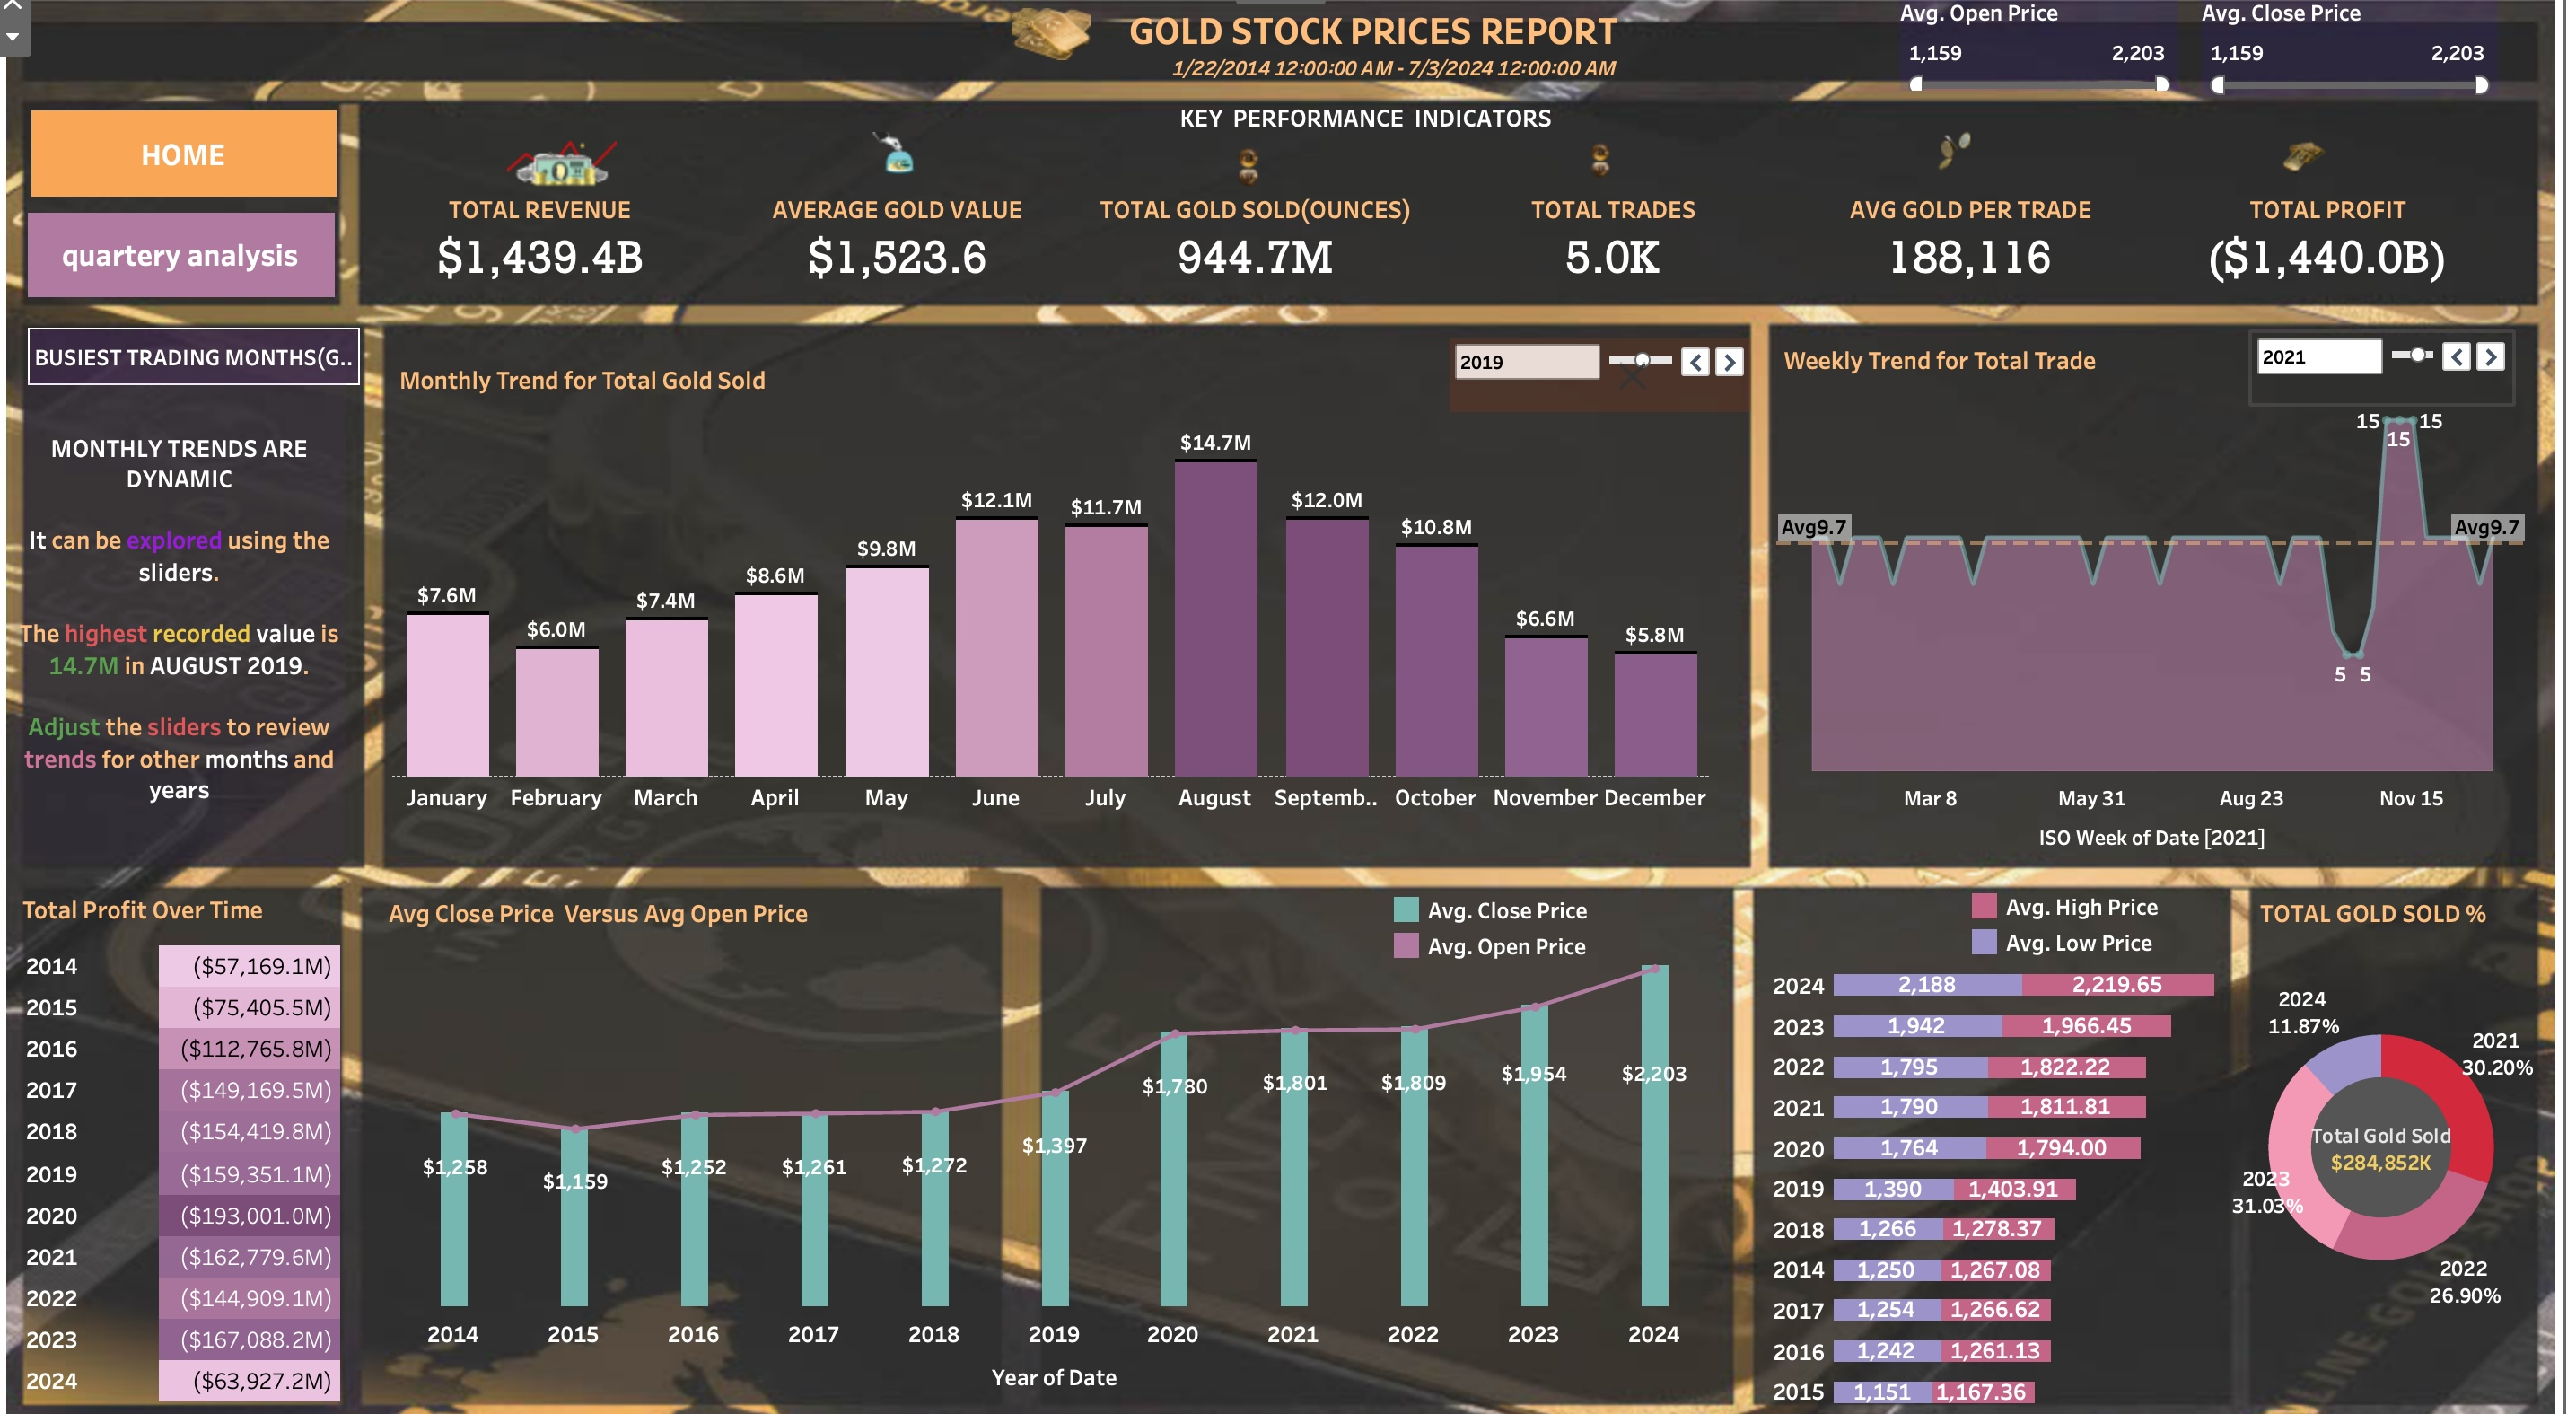

What the dashboard file says about the page in this screenshot:
{"tool":"tableau","page":{"name":"Dashboard 1","canvas":[1000,1000],"units":"permille","ordinal":0},"visuals":[{"type":"image","param":"/Users/dorcassarkodie/Downloads/[number redacted]-af11909f-2907-47eb-9f0e-64b26b46d7","box":[5.5,9.7,988.9,980.7]},{"type":"filter","title":"Avg Close Price Versus Avg Open Price","param":"[federated.0zgimoz0z6cs6b15ha84a0u8kb8z].[avg:Open_Price:qk]","box":[748.6,22.9,107.3,72.5]},{"type":"text","box":[328.9,25.4,465.4,37.4]},{"type":"filter","title":"Avg Close Price Versus Avg Open Price","param":"[federated.0zgimoz0z6cs6b15ha84a0u8kb8z].[avg:Close_Price:qk]","box":[860.1,25.4,124,66.4]},{"type":"image","param":"/Users/dorcassarkodie/Downloads/pexels-michael-steinberg-95604-366551-removebg-p","box":[430.1,31.4,30.5,42.3]},{"type":"worksheet","title":"Sheet 8","mark":"Automatic","box":[461.2,58,217.5,15.7]},{"type":"text","box":[147.5,91.8,824.8,33.8]},{"type":"dashboard-object","box":[18,94.2,117.7,58]},{"type":"image","param":"/Users/dorcassarkodie/Downloads/pexels-gabby-k-5849554.jpg","box":[211.2,101.1,20,18.9]},{"type":"image","param":"/Users/dorcassarkodie/Downloads/pexels-gabby-k-5849556-removebg-preview.png","box":[197.4,106.3,50.6,43.5]},{"type":"image","param":"/Users/dorcassarkodie/Downloads/pexels-michael-steinberg-95604-321452-removebg-p","box":[856.6,107.5,72,37.4]},{"type":"image","param":"/Users/dorcassarkodie/Downloads/pexels-pixabay-210600-removebg-preview.png","box":[690.4,108.7,62.3,37.4]},{"type":"image","param":"/Users/dorcassarkodie/Downloads/pexels-gabby-k-5849554-removebg-preview.png","box":[371.2,111.1,41.6,31.4]},{"type":"image","param":"/Users/dorcassarkodie/Downloads/pexels-jonathanborba-14891538-removebg-preview.p","box":[531.2,115.9,43.6,32.6]},{"type":"worksheet","title":"Sheet 1","mark":"Automatic","box":[145.4,129.2,827.6,93]},{"type":"dashboard-object","box":[16.6,163,118.4,56.8]},{"type":"text","box":[16.6,240.3,128.1,38.6]},{"type":"filter","title":"Weekly Trend for Total Trades","param":"[federated.0zgimoz0z6cs6b15ha84a0u8kb8z].[yr:Date:ok]","box":[874.6,244,100.4,47.1]},{"type":"worksheet","title":"Weekly Trend for Total Trades","mark":"Area","rows":["Calculation_1322932452084264966","Calculation_1322932452084264966"],"cols":["Date"],"box":[691.1,246.4,290.2,353.9]},{"type":"filter","title":"Monthly Trend for Total Gold Sold","param":"[federated.0zgimoz0z6cs6b15ha84a0u8kb8z].[yr:Date:ok]","box":[565.1,247.6,116.3,49.5]},{"type":"worksheet","title":"Monthly Trend for Total Gold Sold","mark":"Bar","rows":["Calculation_1322932452080660481","Calculation_1322932452080660481"],"cols":["Date"],"box":[157.2,259.7,509,344.2]},{"type":"dashboard-object","box":[628.1,260,15,27.5]},{"type":"text","box":[11.1,275.4,128.1,326.1]},{"type":"worksheet","title":"Sheet 7","mark":"Square","rows":["Date"],"box":[11.8,615.9,125.4,346.6]},{"type":"text","box":[876,615.9,115.7,36.2]},{"type":"legend","title":"Sheet 6","param":"[federated.0zgimoz0z6cs6b15ha84a0u8kb8z].[:Measure Names]","box":[764.5,617.1,97,56.8]},{"type":"worksheet","title":"Avg Close Price Versus Avg Open Price","mark":"Automatic","rows":["Close_Price","Open_Price"],"cols":["Date"],"box":[153.1,618.4,519.4,346.6]},{"type":"worksheet","title":"Percentage of Gold Sold","mark":"Pie","rows":["Calculation_1322932452904931337","Calculation_1322932452904931337"],"box":[865,618.4,119.1,346.6]},{"type":"legend","title":"Avg Close Price Versus Avg Open Price","param":"[federated.0zgimoz0z6cs6b15ha84a0u8kb8z].[:Measure Names]","box":[541.5,619.6,88.6,54.4]},{"type":"worksheet","title":"Sheet 6","mark":"Bar","rows":["Date"],"box":[657.9,655.8,209.8,318.8]}]}

Visuals, with their boxes on the dashboard's canvas, which has no fixed pixel size, in thousandths of its width and height (x1, y1, x2, y2). These are canvas units, not pixel positions in the 2576x1414 screenshot, which may show the page scaled, cropped or inside an application window:
image: l=6, t=10, r=994, b=990
"Avg Close Price Versus Avg Open Price" filter: l=749, t=23, r=856, b=95
text: l=329, t=25, r=794, b=63
"Avg Close Price Versus Avg Open Price" filter: l=860, t=25, r=984, b=92
image: l=430, t=31, r=461, b=74
"Sheet 8" worksheet: l=461, t=58, r=679, b=74
text: l=148, t=92, r=972, b=126
dashboard-object: l=18, t=94, r=136, b=152
image: l=211, t=101, r=231, b=120
image: l=197, t=106, r=248, b=150
image: l=857, t=108, r=929, b=145
image: l=690, t=109, r=753, b=146
image: l=371, t=111, r=413, b=142
image: l=531, t=116, r=575, b=148
"Sheet 1" worksheet: l=145, t=129, r=973, b=222
dashboard-object: l=17, t=163, r=135, b=220
text: l=17, t=240, r=145, b=279
"Weekly Trend for Total Trades" filter: l=875, t=244, r=975, b=291
"Weekly Trend for Total Trades" worksheet (Area marks): l=691, t=246, r=981, b=600
"Monthly Trend for Total Gold Sold" filter: l=565, t=248, r=681, b=297
"Monthly Trend for Total Gold Sold" worksheet (Bar marks): l=157, t=260, r=666, b=604
dashboard-object: l=628, t=260, r=643, b=288
text: l=11, t=275, r=139, b=602
"Sheet 7" worksheet (Square marks): l=12, t=616, r=137, b=962
text: l=876, t=616, r=992, b=652
"Sheet 6" legend: l=764, t=617, r=862, b=674
"Avg Close Price Versus Avg Open Price" worksheet: l=153, t=618, r=672, b=965
"Percentage of Gold Sold" worksheet (Pie marks): l=865, t=618, r=984, b=965
"Avg Close Price Versus Avg Open Price" legend: l=542, t=620, r=630, b=674
"Sheet 6" worksheet (Bar marks): l=658, t=656, r=868, b=975
